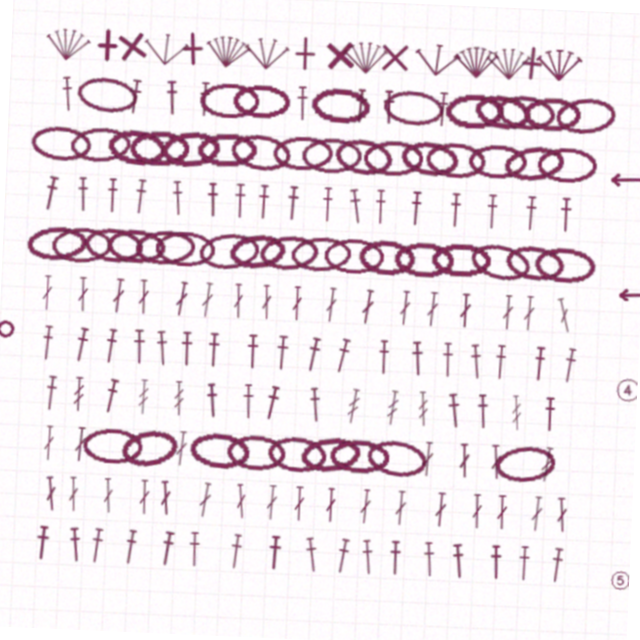chain: (465, 232, 531, 278), (124, 432, 187, 478), (495, 133, 559, 177), (304, 433, 368, 476), (222, 134, 286, 176), (194, 234, 258, 276), (371, 434, 435, 476), (499, 434, 563, 476), (224, 233, 286, 276), (545, 84, 609, 125), (463, 84, 525, 126), (326, 134, 388, 176), (66, 84, 129, 125), (255, 234, 318, 275), (501, 234, 564, 275), (152, 134, 214, 175), (392, 134, 454, 175), (22, 235, 85, 275), (99, 135, 160, 175), (373, 85, 435, 124), (486, 85, 548, 124), (62, 135, 124, 174), (80, 235, 142, 274), (131, 235, 193, 274), (287, 235, 349, 274), (194, 435, 256, 474), (23, 136, 84, 174), (48, 236, 109, 274), (272, 436, 333, 474), (418, 136, 480, 173), (531, 236, 593, 273), (189, 136, 250, 173), (265, 136, 326, 173), (103, 236, 164, 273), (294, 137, 356, 173), (301, 86, 361, 123), (435, 86, 495, 123), (355, 236, 414, 273), (122, 137, 182, 173), (356, 137, 416, 173), (391, 237, 451, 273), (335, 437, 395, 473), (190, 87, 251, 122), (530, 137, 591, 172), (152, 237, 213, 272), (88, 437, 149, 472), (514, 87, 573, 123), (232, 437, 291, 473), (461, 137, 521, 172), (321, 237, 381, 272), (428, 237, 488, 272), (223, 87, 282, 122)
double: (554, 287, 574, 323), (173, 287, 189, 323), (359, 287, 375, 323), (545, 437, 561, 473), (205, 487, 221, 523), (199, 287, 214, 323), (51, 487, 66, 523), (110, 287, 125, 322), (166, 487, 181, 522), (425, 287, 439, 322), (79, 437, 93, 472), (180, 437, 194, 472), (495, 437, 509, 472), (109, 487, 123, 522), (242, 487, 256, 522), (538, 487, 552, 522), (563, 487, 577, 522), (324, 287, 337, 322), (398, 287, 411, 322), (501, 287, 514, 322), (522, 287, 535, 322), (427, 437, 440, 472), (464, 437, 477, 472), (273, 487, 286, 522), (367, 487, 380, 522), (402, 487, 415, 522), (442, 487, 455, 522), (76, 287, 88, 322), (137, 287, 149, 322), (260, 287, 272, 322), (459, 287, 471, 322), (75, 487, 87, 522), (146, 487, 158, 522), (301, 487, 313, 522), (479, 487, 491, 522), (504, 487, 516, 522), (41, 287, 52, 322), (232, 287, 243, 322), (291, 287, 302, 322), (49, 437, 60, 472), (333, 487, 344, 522)
fan: (192, 35, 241, 75), (32, 35, 81, 74), (402, 35, 451, 74), (131, 36, 179, 74), (232, 37, 279, 73), (331, 37, 378, 73), (474, 37, 521, 73), (442, 37, 488, 73), (525, 37, 571, 72)
half_double: (334, 337, 354, 373), (36, 187, 55, 223), (105, 387, 124, 423), (266, 387, 285, 423), (342, 187, 360, 223), (74, 337, 92, 373), (306, 337, 324, 373), (449, 387, 467, 423), (168, 537, 186, 573), (313, 537, 331, 573), (344, 537, 362, 573), (117, 87, 134, 123), (155, 337, 172, 373), (563, 337, 580, 373), (98, 537, 115, 573), (132, 537, 149, 573), (460, 537, 477, 573), (50, 87, 66, 123), (104, 337, 120, 373), (470, 337, 486, 373), (208, 387, 224, 423), (311, 387, 327, 423), (77, 537, 93, 573), (238, 537, 254, 573), (370, 537, 386, 573), (559, 537, 575, 573), (411, 337, 427, 372), (44, 537, 60, 572), (155, 87, 170, 122), (344, 87, 359, 122), (426, 87, 441, 122), (128, 187, 143, 222), (165, 187, 180, 222), (41, 337, 56, 372), (133, 337, 148, 372), (276, 337, 291, 372), (47, 387, 62, 422), (479, 387, 494, 422), (277, 537, 292, 572), (432, 537, 447, 572), (286, 87, 300, 122), (71, 187, 85, 222), (201, 187, 215, 222), (228, 187, 242, 222), (281, 187, 295, 222), (404, 187, 418, 222), (519, 187, 533, 222), (554, 187, 568, 222), (181, 337, 195, 372), (208, 337, 222, 372), (247, 337, 261, 372), (495, 337, 509, 372), (534, 337, 548, 372), (245, 387, 259, 422), (499, 537, 513, 572), (189, 87, 202, 122), (373, 87, 386, 122), (101, 187, 114, 222), (252, 187, 265, 222), (316, 187, 329, 222), (369, 187, 382, 222), (444, 187, 457, 222), (481, 187, 494, 222), (379, 337, 392, 372), (443, 337, 456, 372), (547, 387, 560, 422), (198, 537, 211, 572), (399, 537, 412, 572), (528, 537, 541, 572)
noise: (616, 362, 640, 392), (602, 159, 639, 174), (620, 556, 640, 579), (0, 331, 17, 353), (615, 275, 640, 288)
single: (100, 34, 141, 75), (163, 36, 200, 73), (310, 36, 347, 73), (502, 36, 539, 73), (78, 37, 113, 72), (276, 37, 311, 72), (366, 37, 401, 72)
treble: (349, 387, 365, 423), (389, 387, 404, 423), (420, 387, 434, 422), (176, 387, 189, 422), (514, 387, 527, 422), (76, 387, 88, 422), (141, 387, 153, 422)
